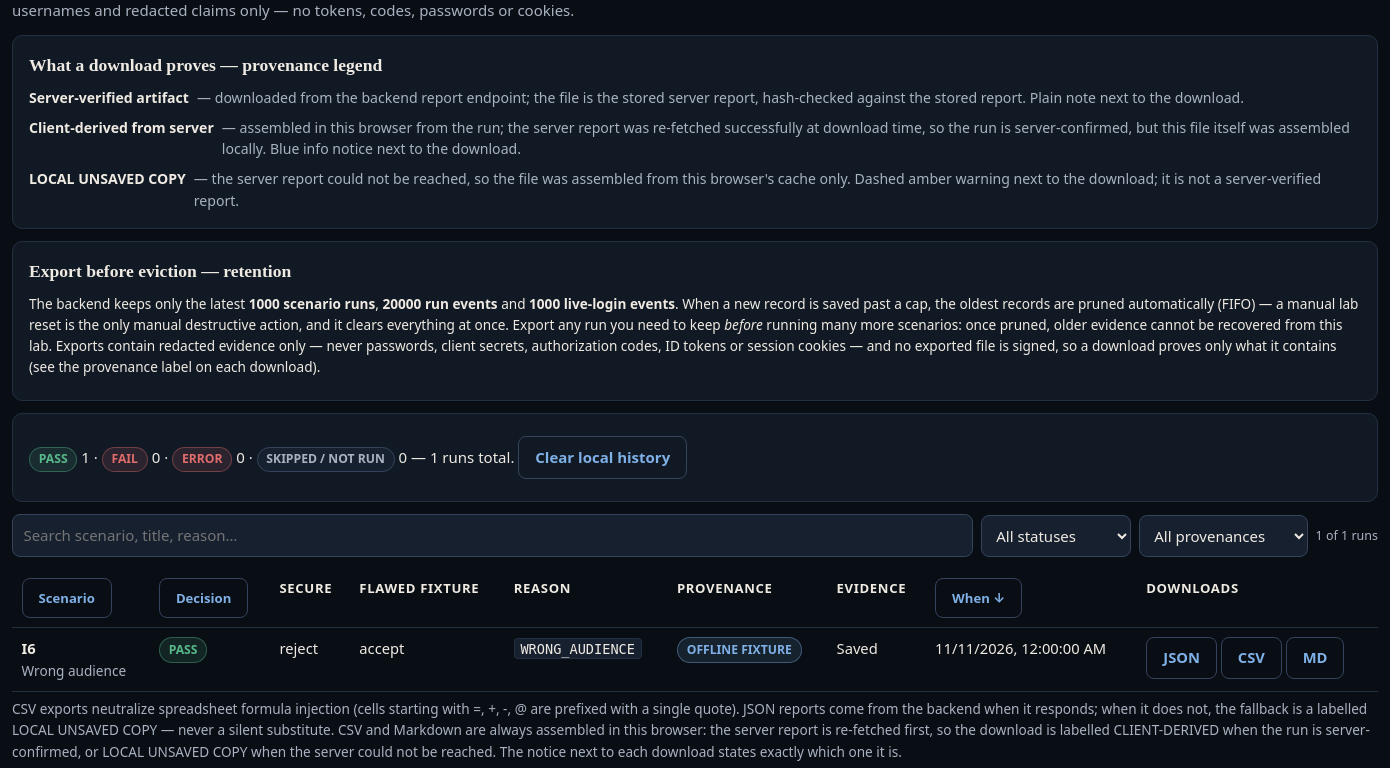
Findings download provenance notices (IF-V4-12) › CSV download shows the LOCAL UNSAVED COPY warning when the server report cannot be fetched
(page scrolled)
Click the button "CSV": (1251, 658) [1221,637,1282,679]
(page scrolled)
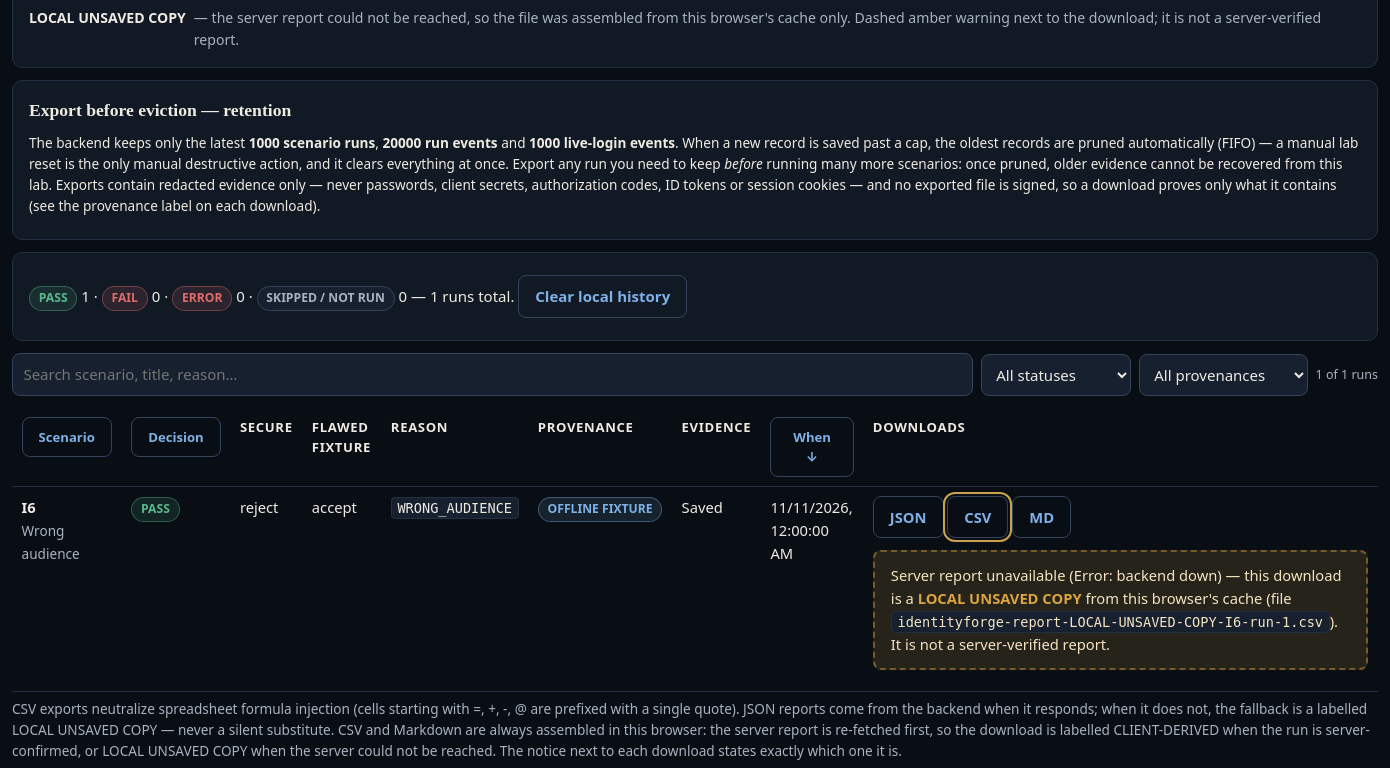
Now the message that starts with "Server report unavailable" shows "LOCAL UNSAVED COPY", box [918,588,1082,608]
Now the message that starts with "Server report unavailable" shows "LOCAL-UNSAVED-COPY", box [898,614,1323,630]
Now the message that starts with "Server report unavailable" shows "not a server-verified report", box [891,611,1338,654]
